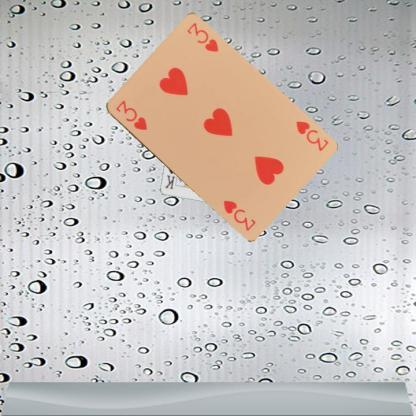3h: (112, 97, 148, 132), (293, 118, 329, 152)
